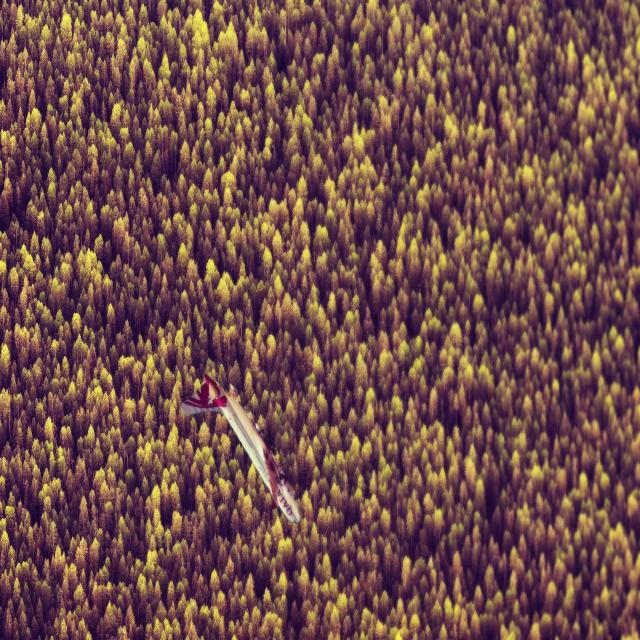airplane: (180, 371, 301, 525)
